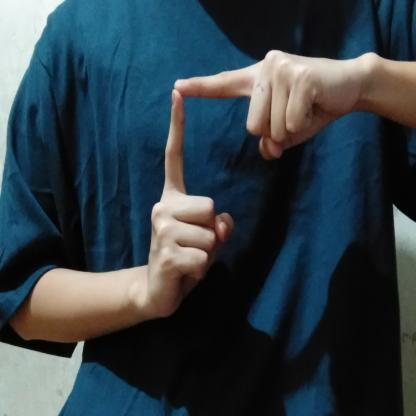when: (140, 41, 376, 334)
